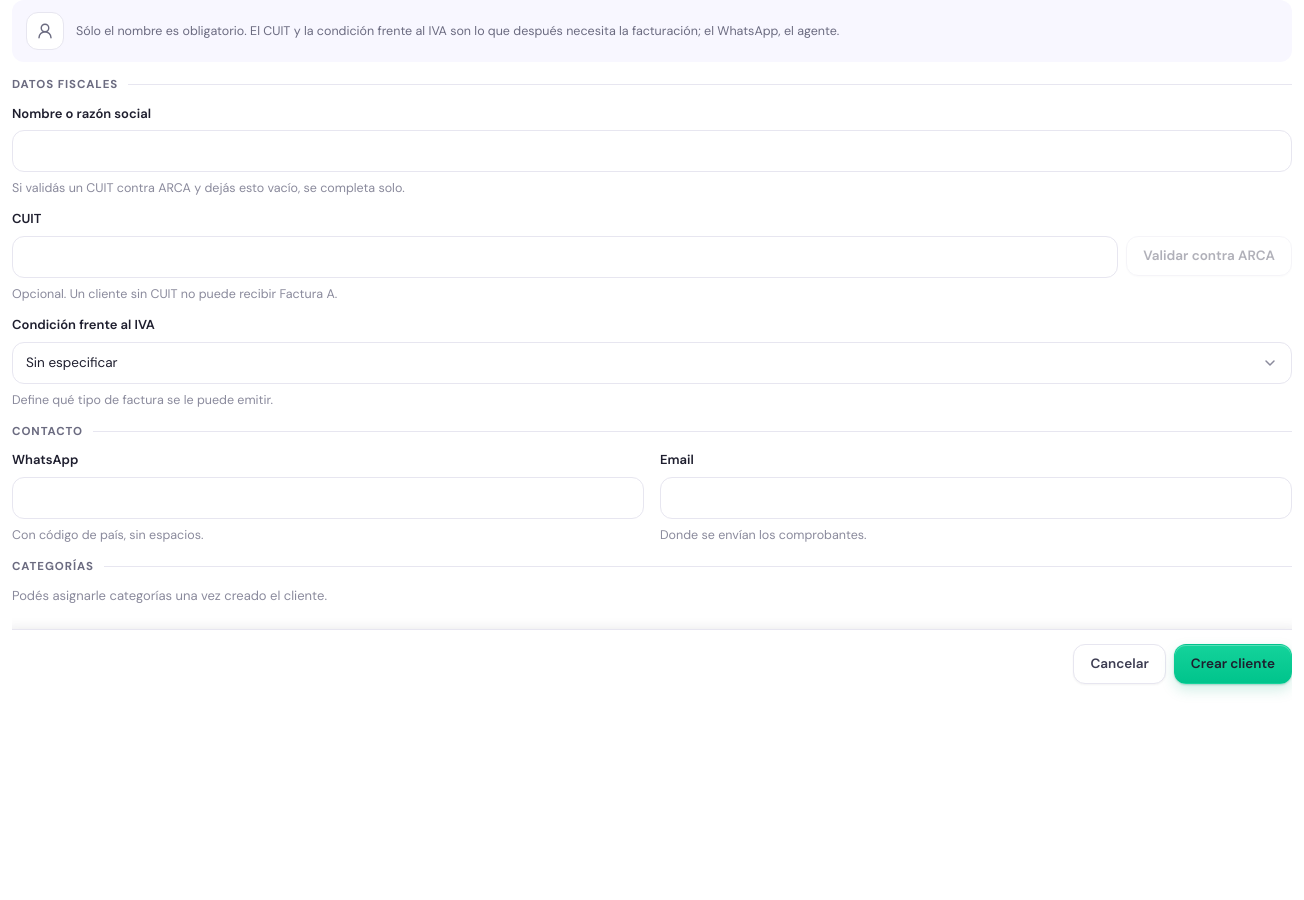
Test: FormularioDeCliente › encontrado completa nombre y condicion IVA
This screenshot has width=1304, height=900.
Step 1. Type "30712345671" into the field labelled "CUIT" → (565, 257), box [12,236,1118,278]
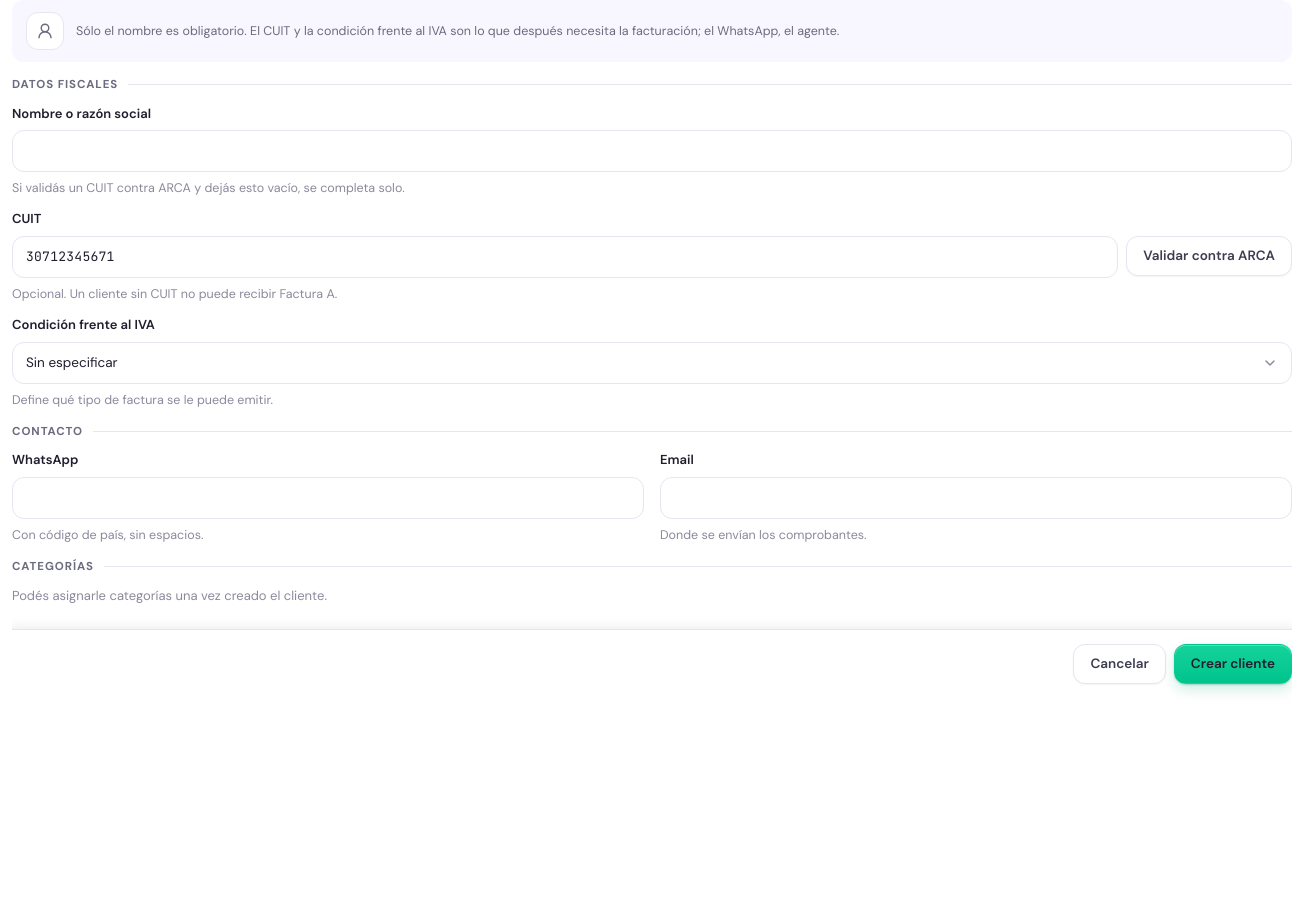
Step 2. Click the button "Validar contra ARCA" → (1209, 256), box [1126,236,1292,276]
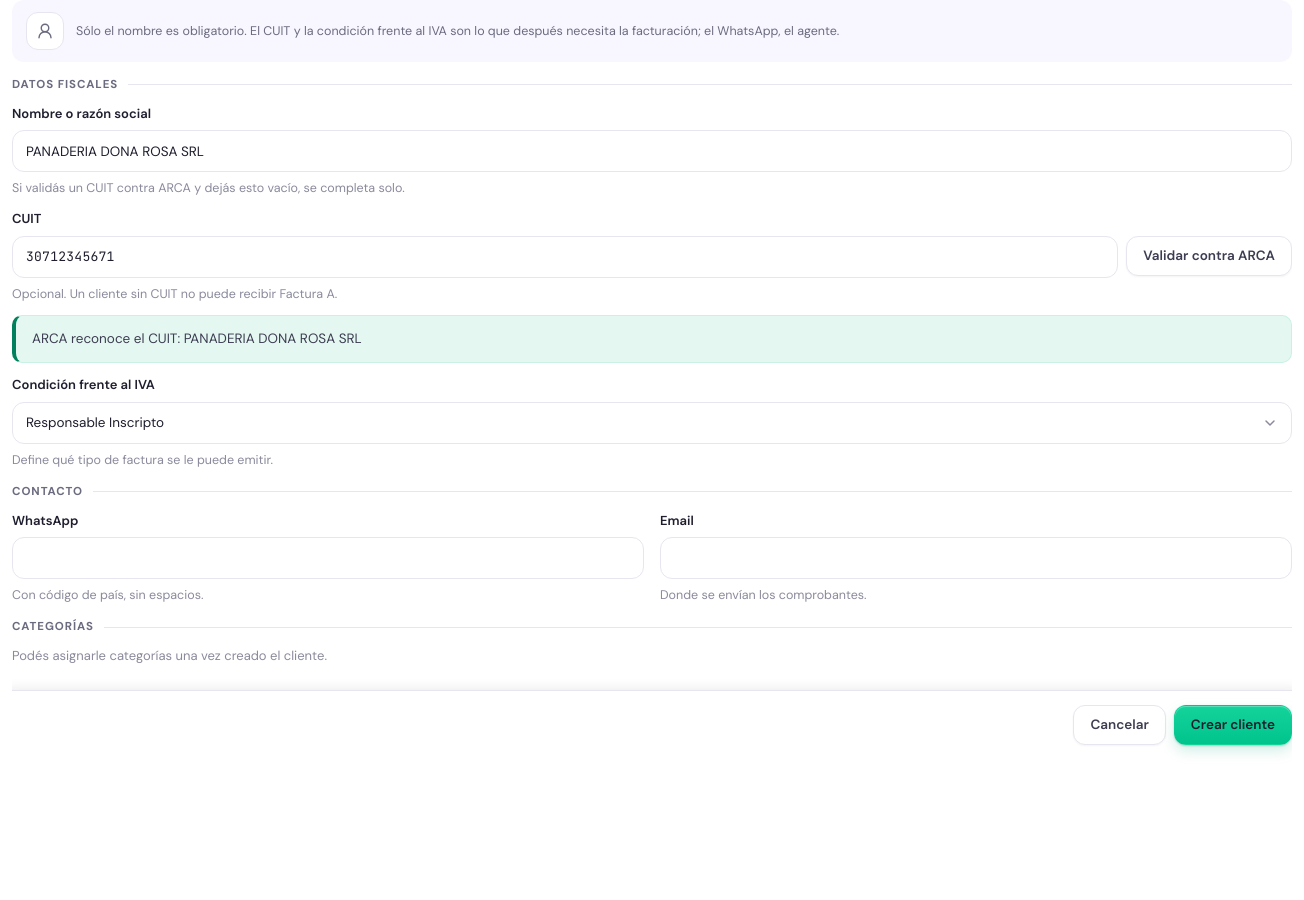
Check: the field labelled "Nombre o razón social" holds "PANADERIA DONA ROSA SRL", box [12,130,1292,172]
